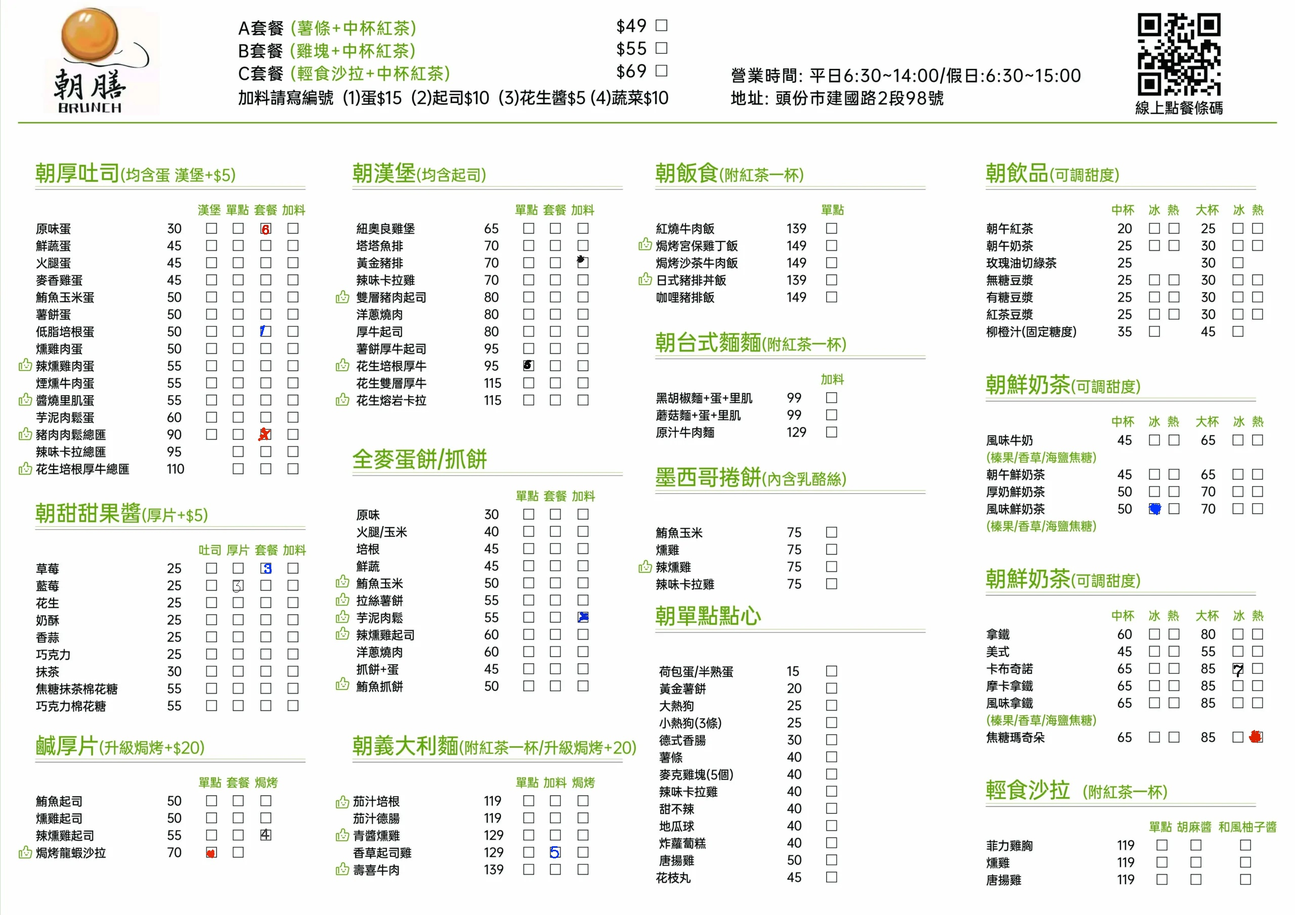marked_circle: (205, 846, 218, 857), (1251, 732, 1262, 742), (1149, 503, 1160, 513), (576, 257, 587, 267)
marked_number_1: (259, 326, 270, 336)
marked_number_3: (261, 564, 272, 574), (232, 580, 243, 590)
marked_number_4: (259, 829, 270, 839)
marked_number_5: (523, 360, 534, 371), (550, 848, 562, 858)
marked_number_6: (260, 222, 271, 233)
marked_number_7: (1232, 663, 1243, 673)
marked_x: (260, 429, 271, 439), (578, 612, 589, 622)
